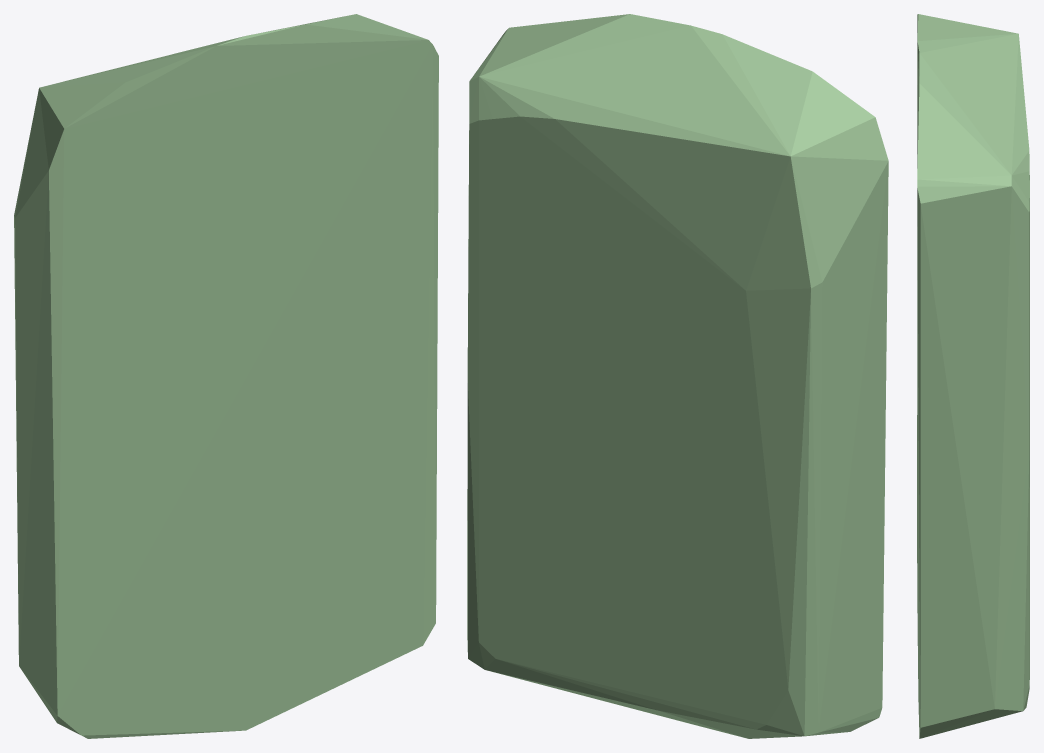
The model's file is kitchenware_tray_a01.glb.
3 views of the same model, side by side, from view 1: azimuth 30°, elevation 25°; view 2: azimuth 150°, elevation 25°; view 3: azimuth 270°, elevation 25° (orthographic). The views are drawn at different scales.
Parts seen in each view (by area): view 1: geometry_0; view 2: geometry_0; view 3: geometry_0.
Part boxes in pixels (<box>): geometry_0: <box>14,14,438,738</box>; geometry_0: <box>467,14,888,738</box>; geometry_0: <box>917,14,1029,738</box>.
Bounding box in the file's own units: 0.2827 × 0.48 × 0.0762.
